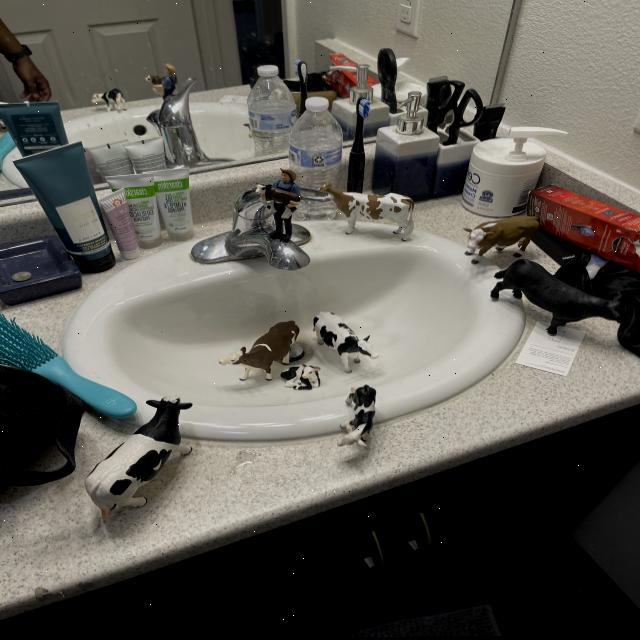cow: (72, 381, 215, 535), (482, 251, 638, 359), (218, 308, 314, 399), (303, 300, 384, 381), (315, 183, 418, 245), (462, 214, 542, 258), (335, 382, 382, 453), (254, 181, 302, 213), (280, 364, 320, 392), (90, 87, 127, 117)
person: (273, 170, 301, 194), (161, 64, 178, 98)
